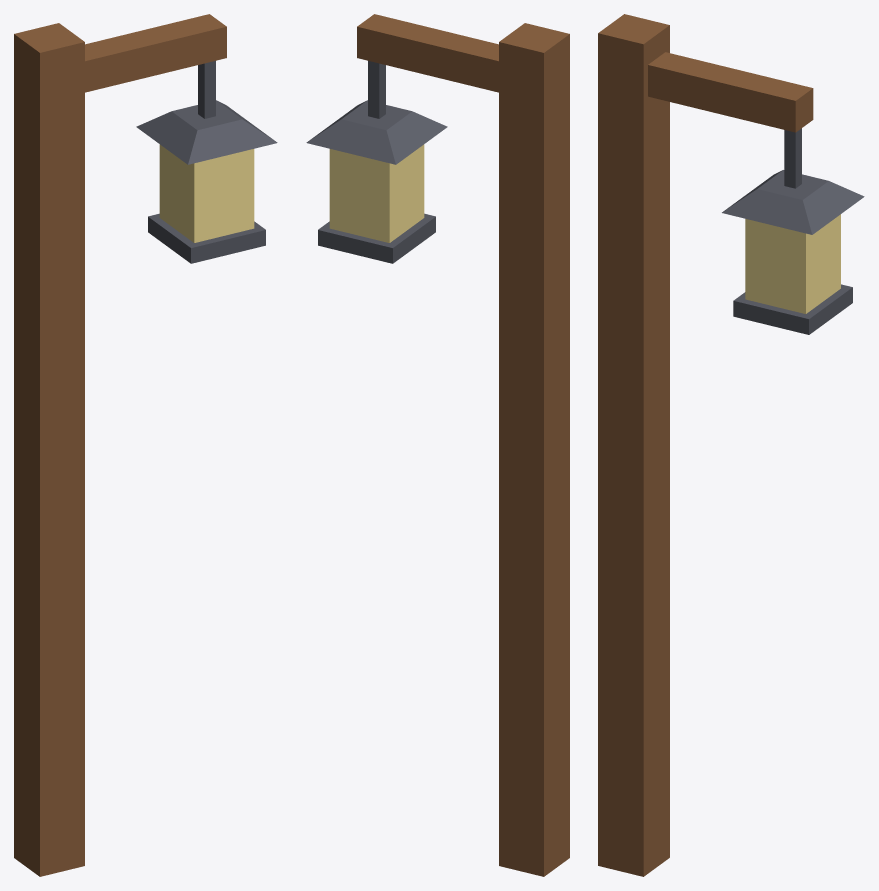
Rendered from lamp_post.obj.
3 renders of one model, left to right at view 1: azimuth 30°, elevation 25°; view 2: azimuth 150°, elevation 25°; view 3: azimuth 330°, elevation 25°, orthographic.
Visible parts, largest first — view 1: post, glow, lantern; view 2: post, glow, lantern; view 3: post, lantern, glow.
Boxes of the visible parts, bbox=[...] form: post: bbox=[14, 14, 226, 876]; glow: bbox=[159, 144, 254, 242]; lantern: bbox=[136, 100, 277, 263]; post: bbox=[357, 14, 569, 876]; glow: bbox=[329, 144, 424, 242]; lantern: bbox=[306, 100, 447, 263]; post: bbox=[598, 14, 813, 876]; lantern: bbox=[722, 170, 864, 334]; glow: bbox=[745, 214, 840, 313].
Size of the model in its own units: 0.6 by 2.1 by 0.24.
